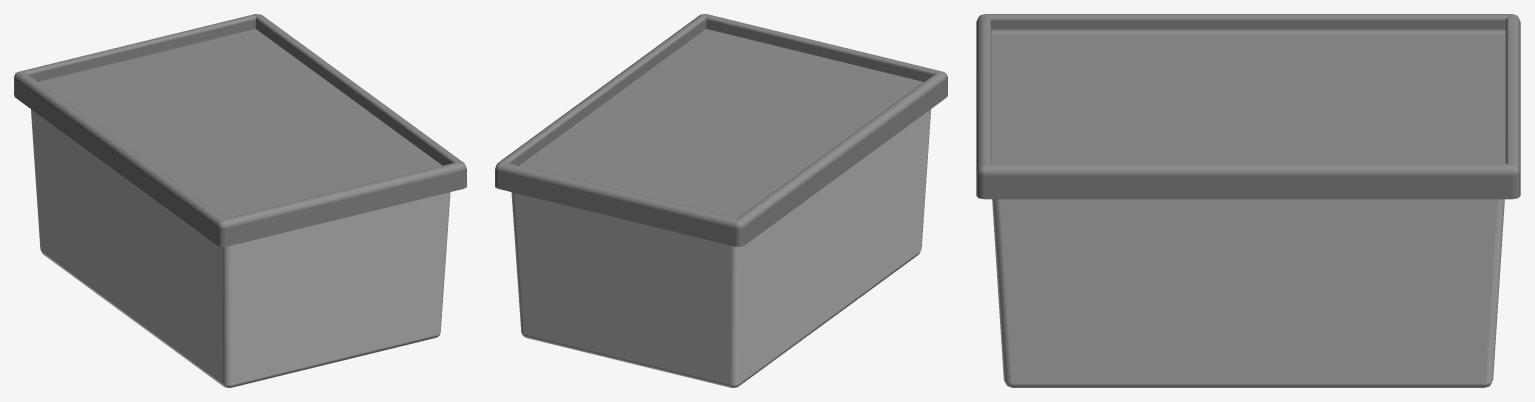
File: SSCContainer4d.fbx
3 views of the same model, side by side, from view 1: azimuth 30°, elevation 25°; view 2: azimuth 150°, elevation 25°; view 3: azimuth 270°, elevation 25° (orthographic). The views are drawn at different scales.
Parts seen in each view (by area): view 1: SSCContainer4d; view 2: SSCContainer4d; view 3: SSCContainer4d.
Boxes of the visible parts, x1,y1,x2,y2 form: SSCContainer4d: [14, 14, 466, 387]; SSCContainer4d: [495, 14, 947, 387]; SSCContainer4d: [976, 14, 1520, 387].
Size of the model in its own units: 43.54 by 30 by 63.54.
